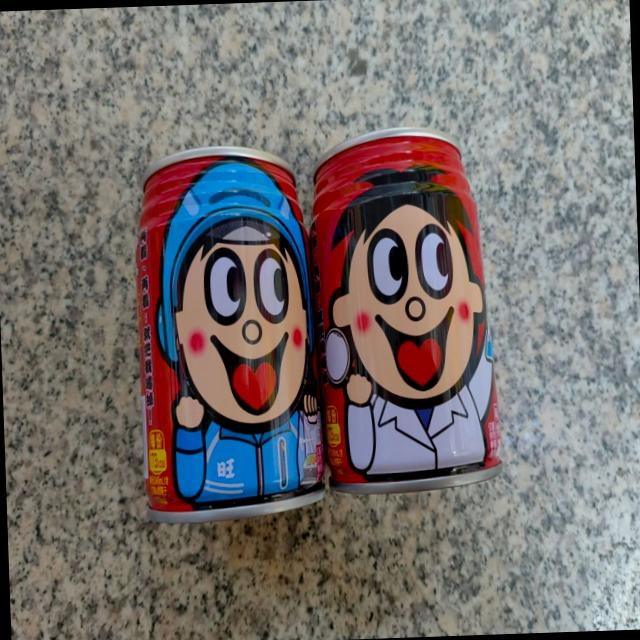can: (129, 138, 328, 526), (308, 122, 504, 500)
